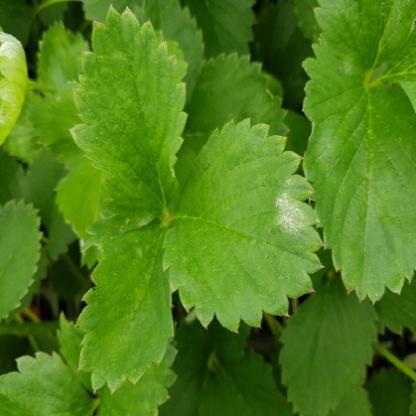Strawberry_Powdery_Mildew_Leaf: (160, 116, 325, 333)
